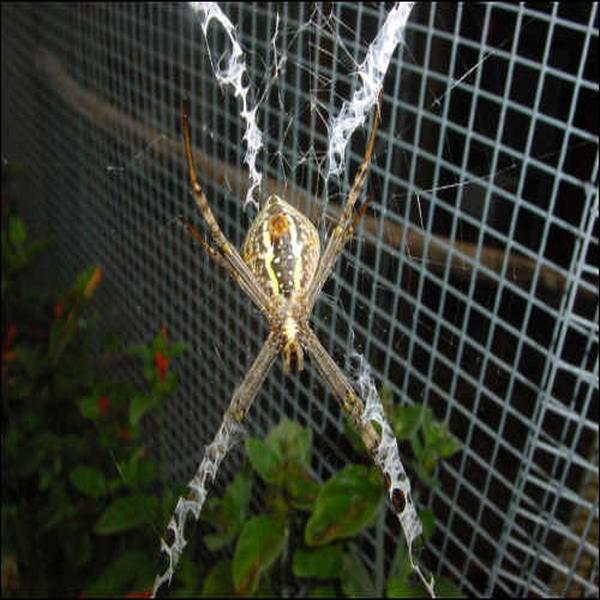St Andrew's Cross Spider: (180, 92, 395, 541)
